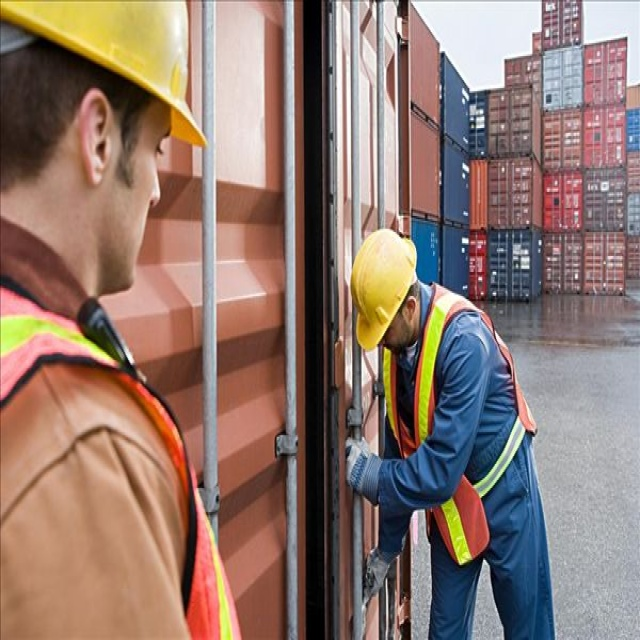Helmet: (1, 1, 215, 329), (341, 216, 424, 361)
Reflective vest: (1, 290, 249, 636), (372, 284, 541, 570)
